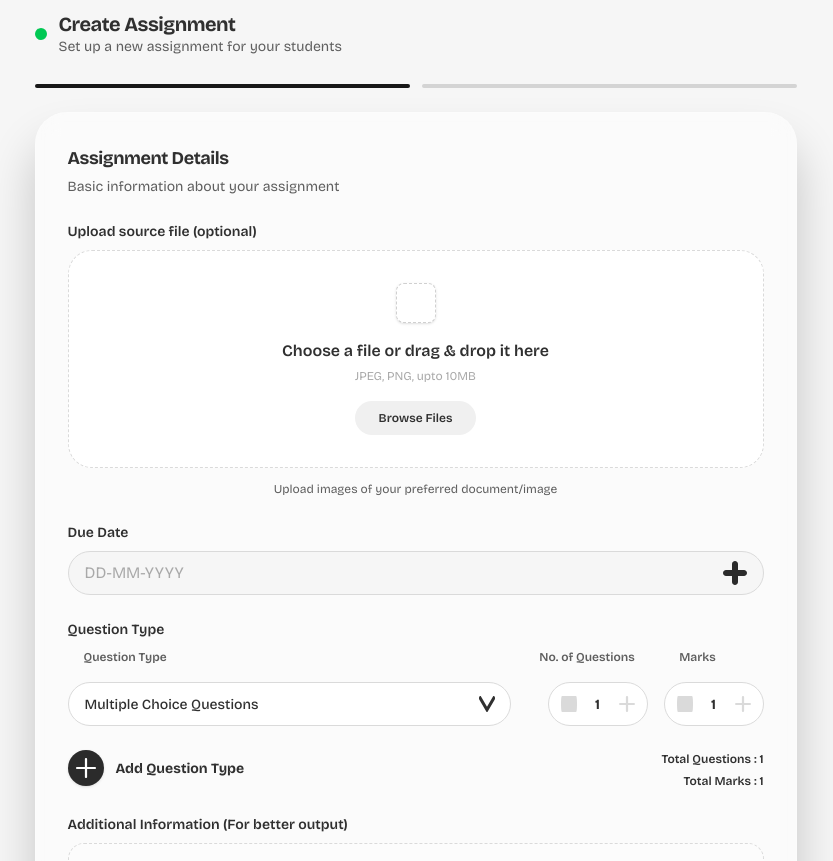
Test: AssignmentForm — step 1: field array (add/remove rows) › adds a second question row when Add Question Type is clicked
Step 1. Click the button "Add Question Type" → (156, 768), box 68,750 -> 244,786
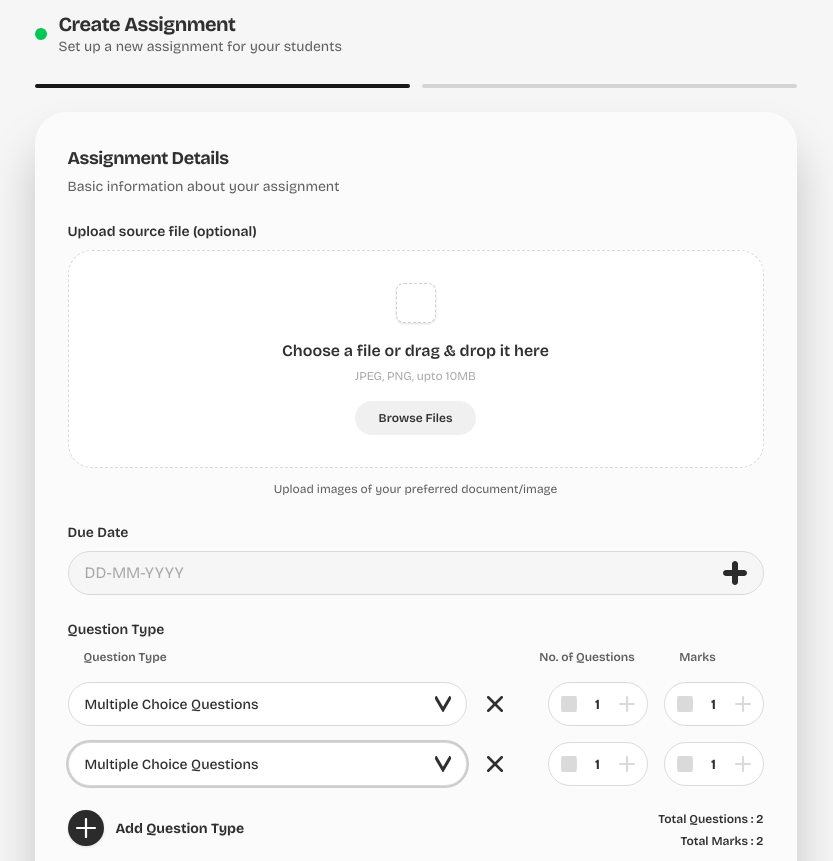
Now the element with test id "question-row-1" is shown, box 68,742 -> 764,786
